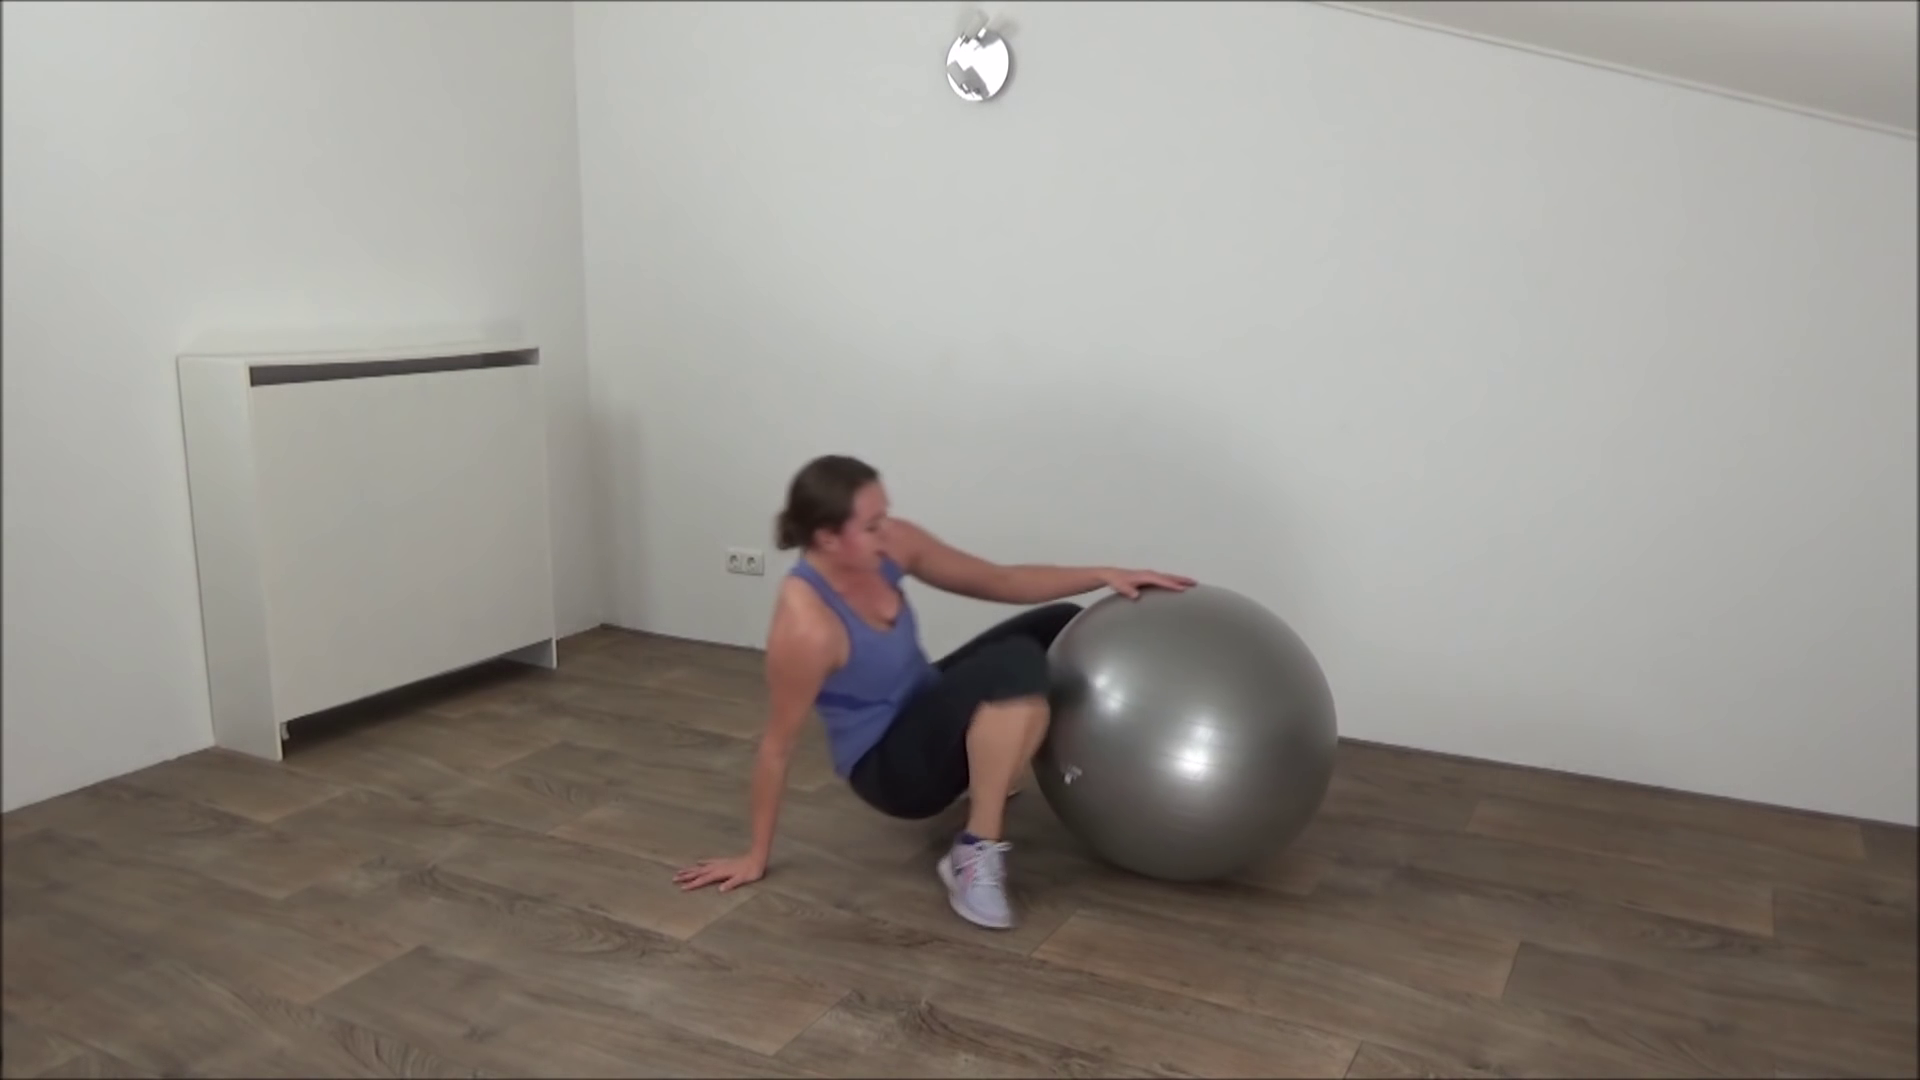yogaball: (1000, 574, 1354, 895)
